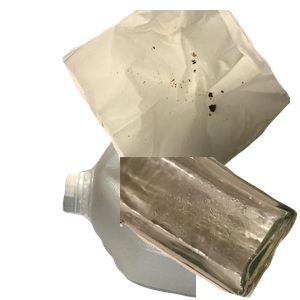glass: (120, 157, 300, 300)
metal: (99, 70, 236, 176)
plastic: (60, 120, 300, 300)
trash: (60, 10, 300, 190)
